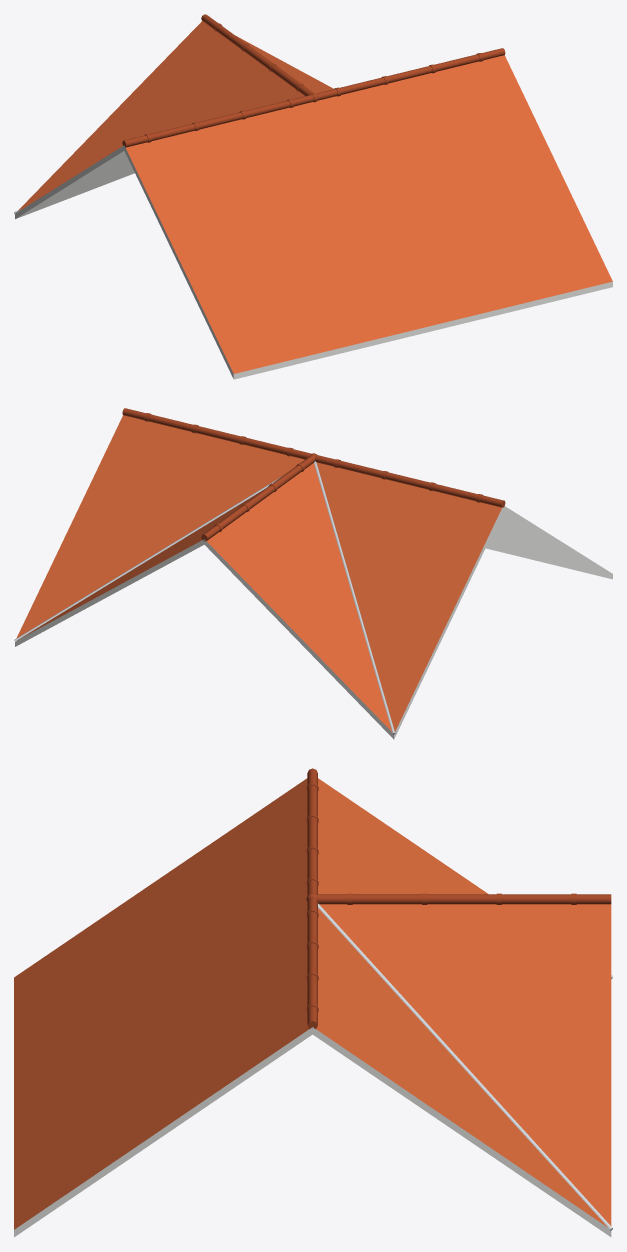
Rendered from telhado_encontro_t_v8_i75.glb.
The picture shows the model from 3 angles, top to bottom: view 1: azimuth 30°, elevation 25°; view 2: azimuth 150°, elevation 25°; view 3: azimuth 270°, elevation 25°; orthographic projection. The views are drawn at different scales.
Parts seen in each view (by area): view 1: telhado_encontro_t_v8_i75; view 2: telhado_encontro_t_v8_i75; view 3: telhado_encontro_t_v8_i75.
Boxes of the visible parts, box(x1,y1,x2,y2) form: telhado_encontro_t_v8_i75: box(14, 14, 612, 379); telhado_encontro_t_v8_i75: box(14, 408, 612, 739); telhado_encontro_t_v8_i75: box(14, 768, 612, 1237).
Size of the model in its own units: 8.04 by 3.22 by 8.02.
4 materials, 1 textured.
